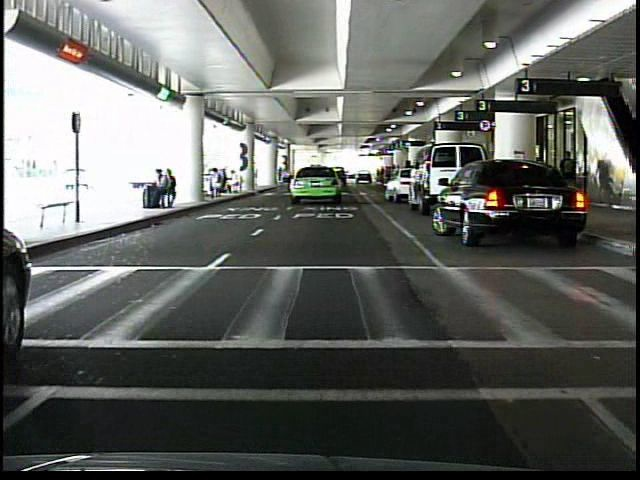person: (557, 149, 581, 210)
